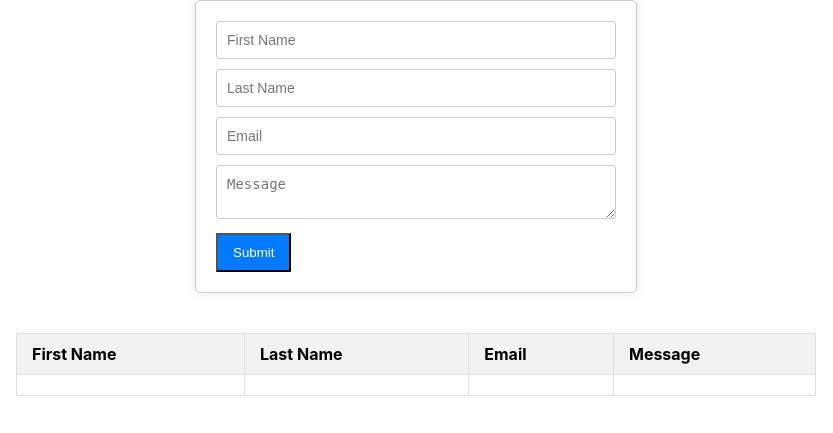
Test: integration tests for ContactFormHooks and FormDataList › should add a contact and display it in the list
Type "John" into the field with placeholder "First Name" at (416, 40), box [216,21,616,59]
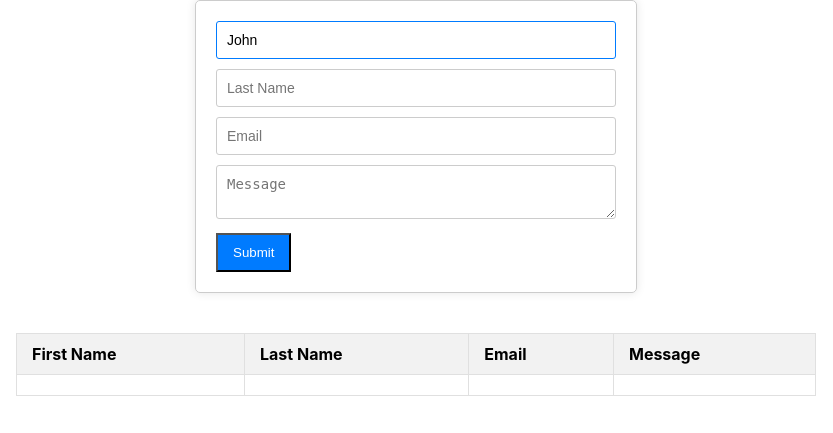
Type "Doe" into the field with placeholder "Last Name" at (416, 88), box [216,69,616,107]
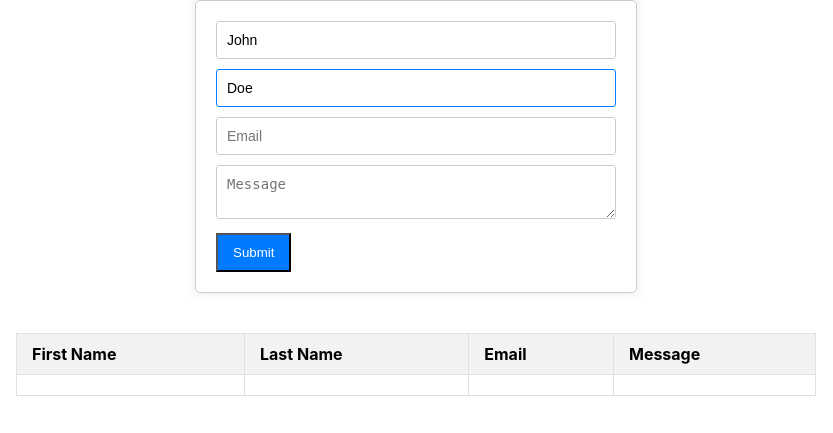
Type "john.doe@example.com" into the field with placeholder "Email" at (416, 136), box [216,117,616,155]
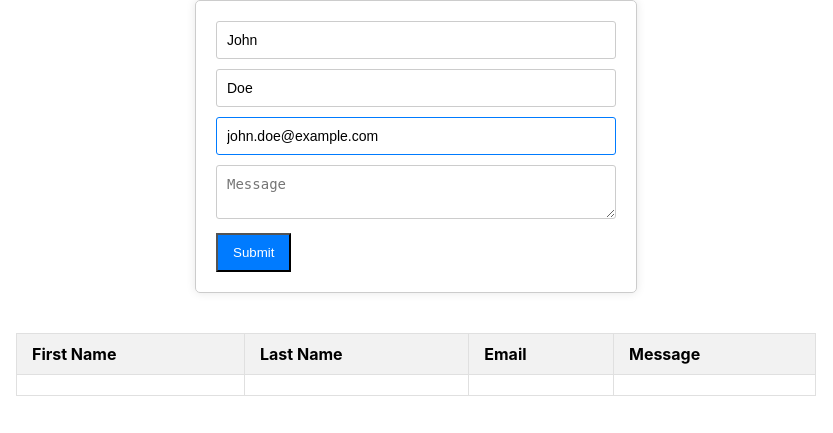
Type "Hello, this is a test message!" into the text box with placeholder "Message" at (416, 192), box [216,165,616,219]
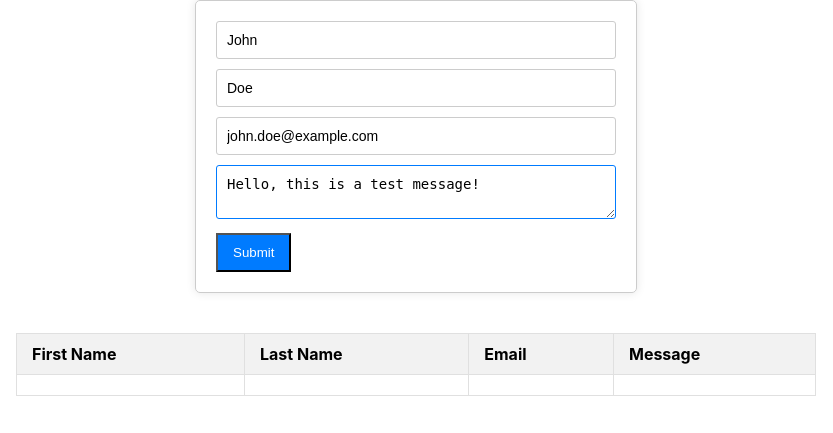
Click the button "Submit" at (254, 252), box [216,233,292,272]
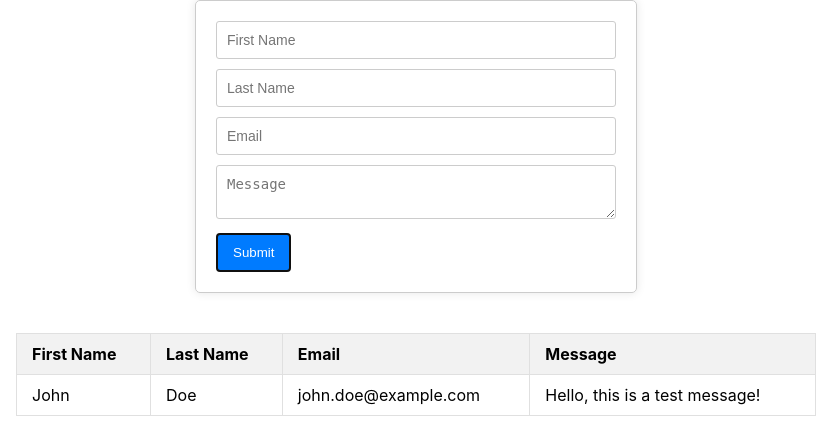
Now the text "John" is shown, box [16,374,150,416]
Now the text "Doe" is shown, box [150,374,282,416]
Now the text "john.doe@example.com" is shown, box [282,374,530,416]
